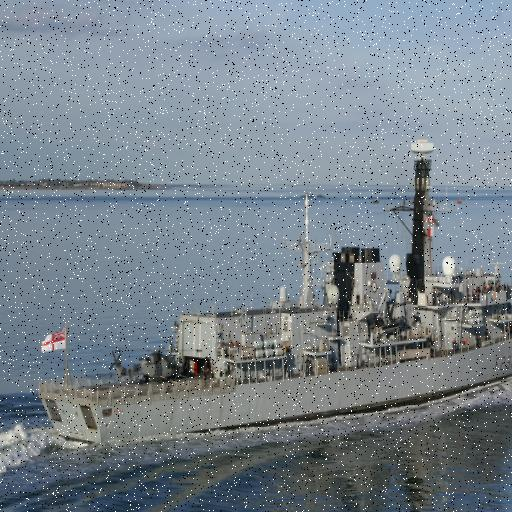Fragata: (36, 132, 512, 459)
